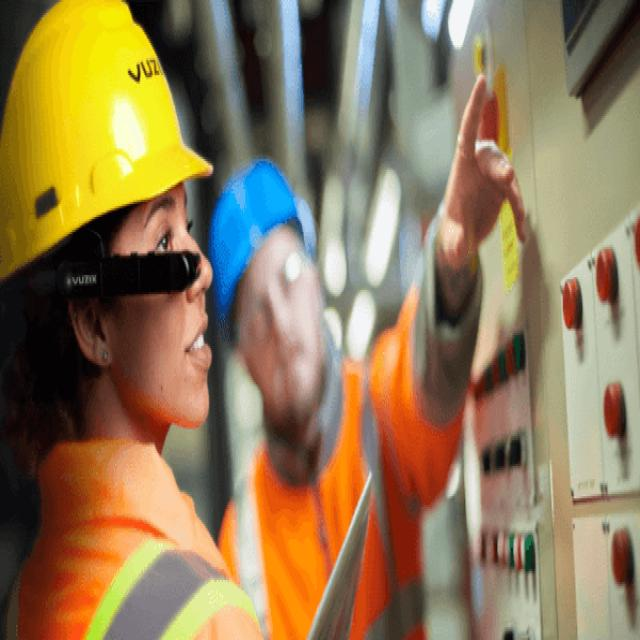helmet: (0, 0, 216, 293)
no-goggles: (122, 203, 214, 255)
vest: (0, 438, 268, 640)
